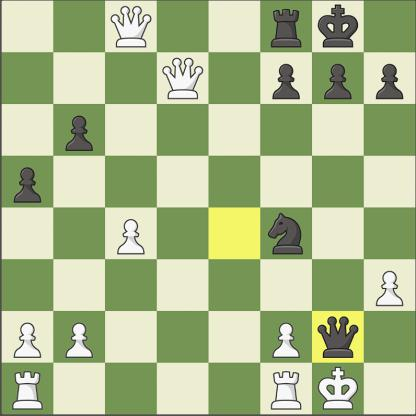Black Castle: (264, 4, 308, 49)
Black King: (314, 4, 362, 51)
Black Knight: (262, 208, 306, 258)
Black Pawn: (316, 57, 358, 104), (266, 57, 306, 102), (7, 160, 46, 205), (371, 56, 408, 103), (60, 106, 94, 154)
Black Queen: (314, 310, 362, 364)
White Castle: (266, 368, 307, 412), (9, 369, 47, 412)
White King: (317, 366, 362, 413)
White Pawn: (110, 211, 150, 260), (6, 314, 48, 360), (366, 264, 407, 310), (61, 317, 96, 361), (266, 320, 303, 360)
White Queen: (160, 55, 206, 104), (108, 3, 154, 51)
